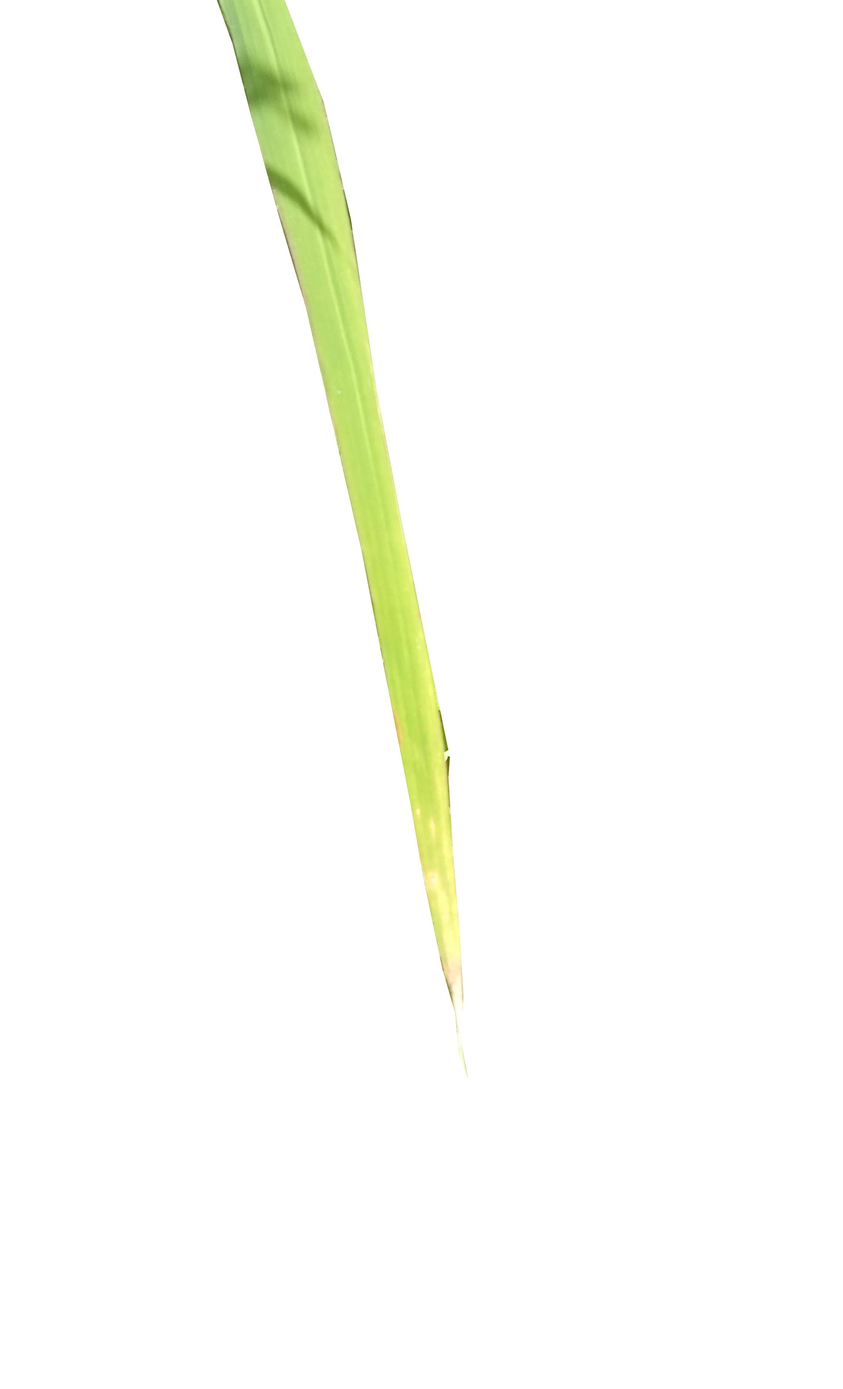Tungro: (311, 244, 467, 1077)
